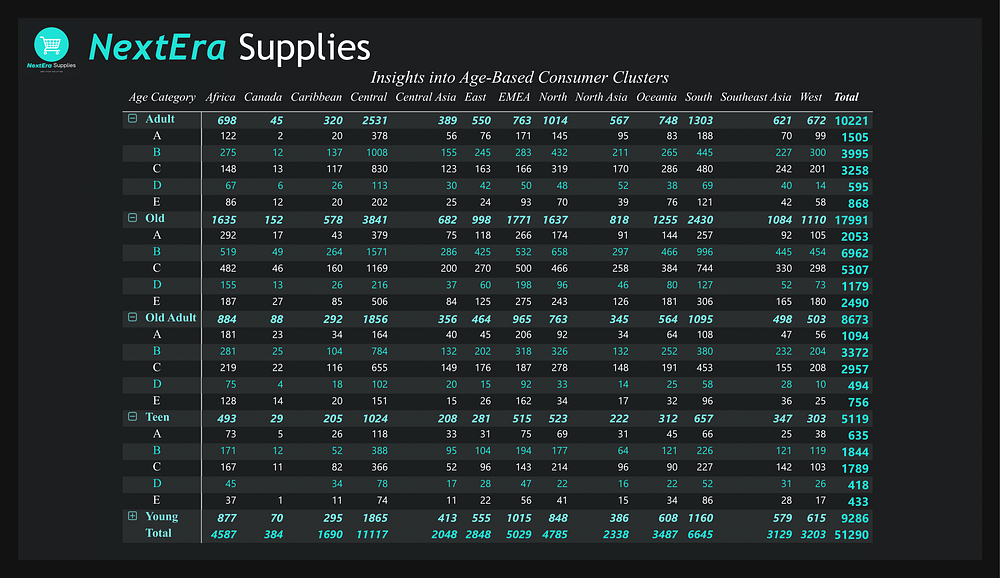

What the dashboard file says about the page in this screenshot:
{"tool":"powerbi","page":{"name":"Page 6","canvas":[1280,720],"ordinal":5},"visuals":[{"type":"image","box":[0,0,87.5,85],"z":1000},{"type":"textbox","box":[87.5,5,441.2,73.8],"z":2000},{"type":"pivotTable","title":"Insights into Age-Based Consumer Clusters","fields":{"Rows":["Customer.Age Category","Customer.Income Category"],"Columns":["Orders.Region"],"Values":["CountNonNull(Orders.Order ID)"]},"box":[133.8,66.2,1065,642.5],"z":3000}]}

Visuals, with their boxes in screenshot pixels (x1, y1, x2, y2), scaled from the page's 1280x720 canvas onto the 1000x578 screenshot:
image: (x1=0, y1=0, x2=68, y2=68)
textbox: (x1=68, y1=4, x2=413, y2=63)
"Insights into Age-Based Consumer Clusters" pivotTable: (x1=105, y1=53, x2=937, y2=569)
